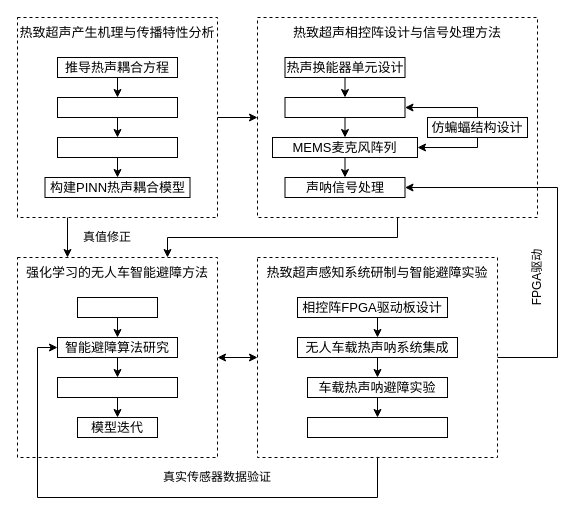
The diagram is 583 pixels wide and 523 high, and some of its shapes have lost their labels. Here are the shapes that lost their labels. From the top down, the centre of each, then its label:
point (117, 107): 伪谱法求解“真值”
point (344, 107): 相控阵列布局设计
point (117, 147): 测量热声材料响应
point (117, 307): 激励调制
point (117, 387): 奖惩函数优化
point (377, 427): 车载热声呐性能评估
